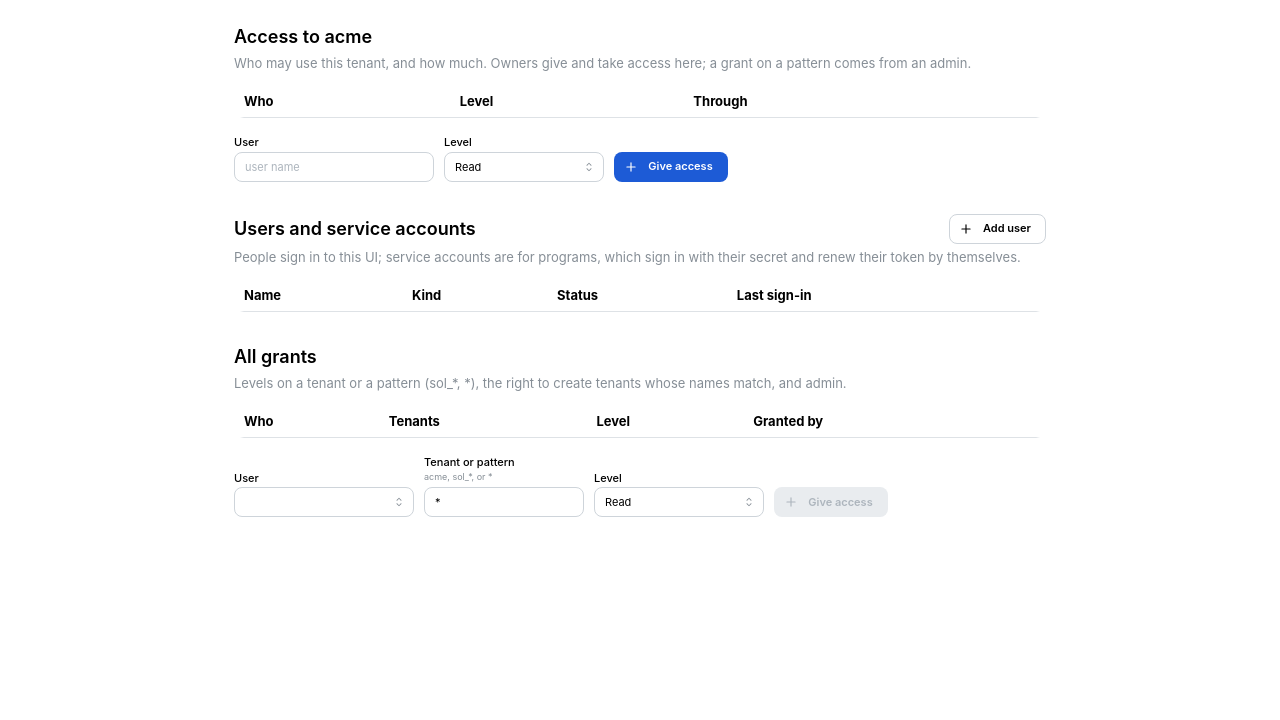
Access › lets an admin create a service account and shows its secret once
Click the button "Add user" at (997, 229), box [949,214,1046,244]
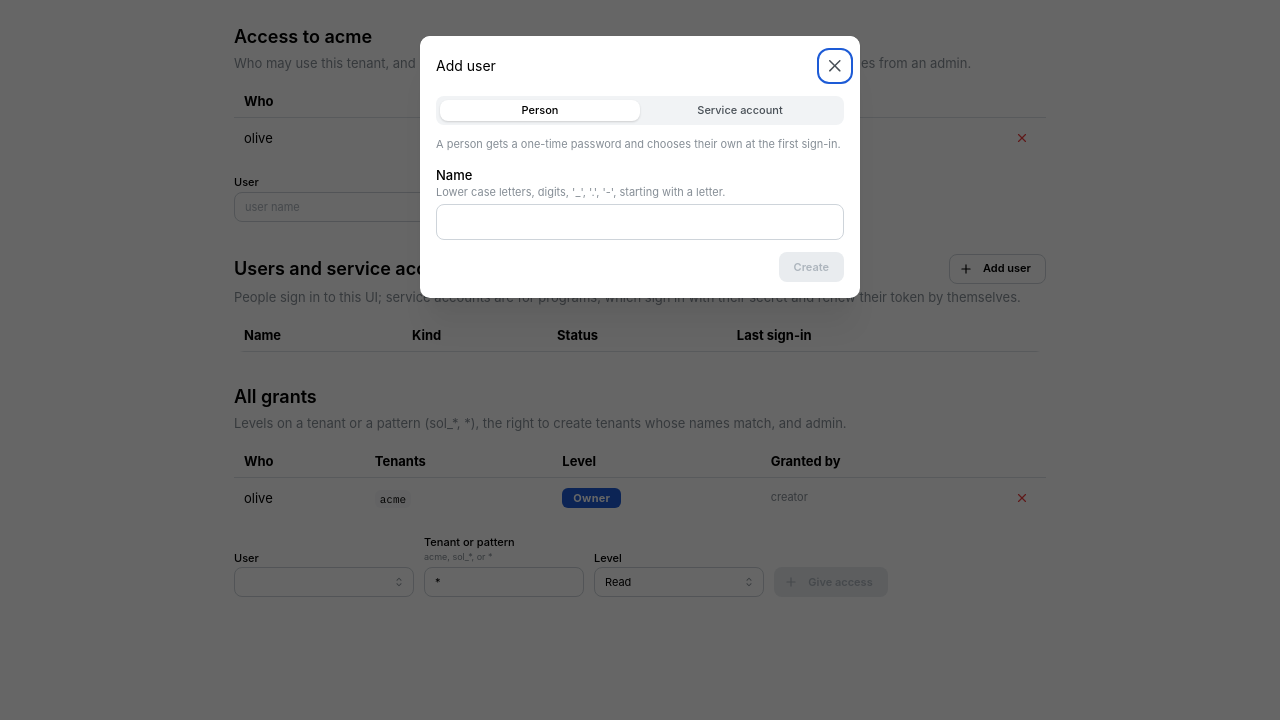
Click the text "Service account" at (740, 110), box [697,103,783,117]
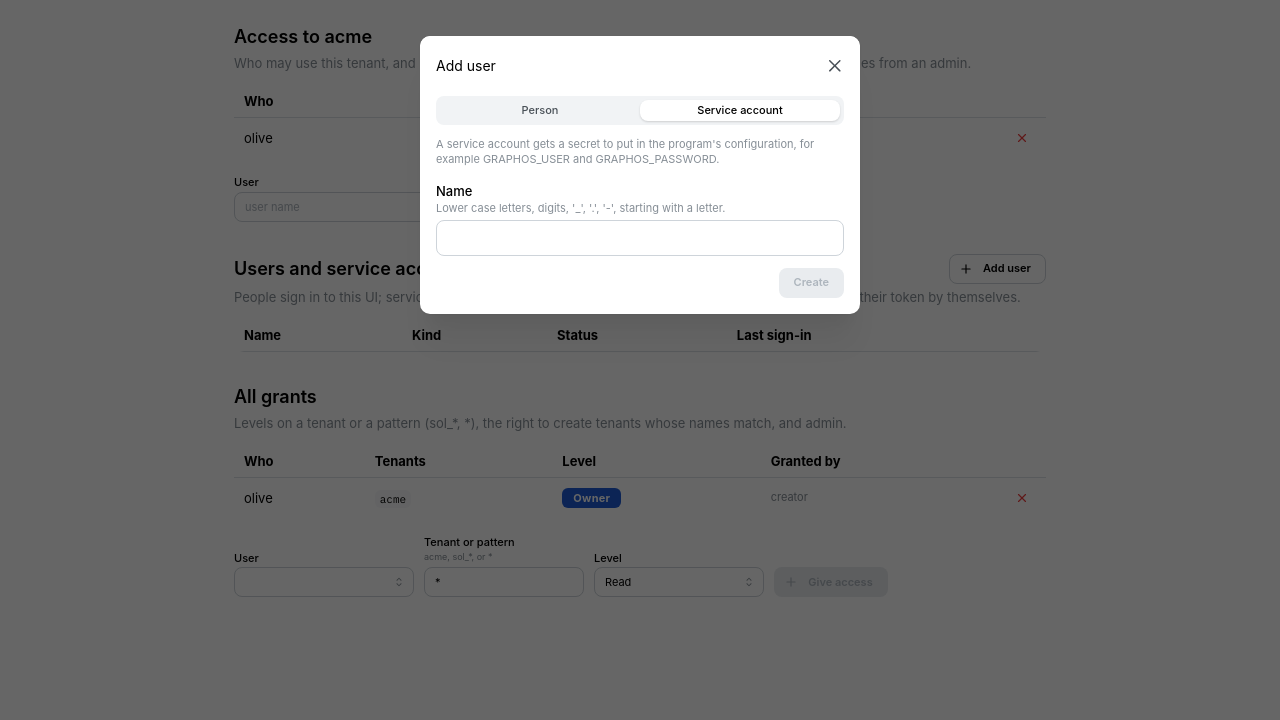
Type "Loader" into the field labelled "Name" at (640, 238), box [436,220,844,256]
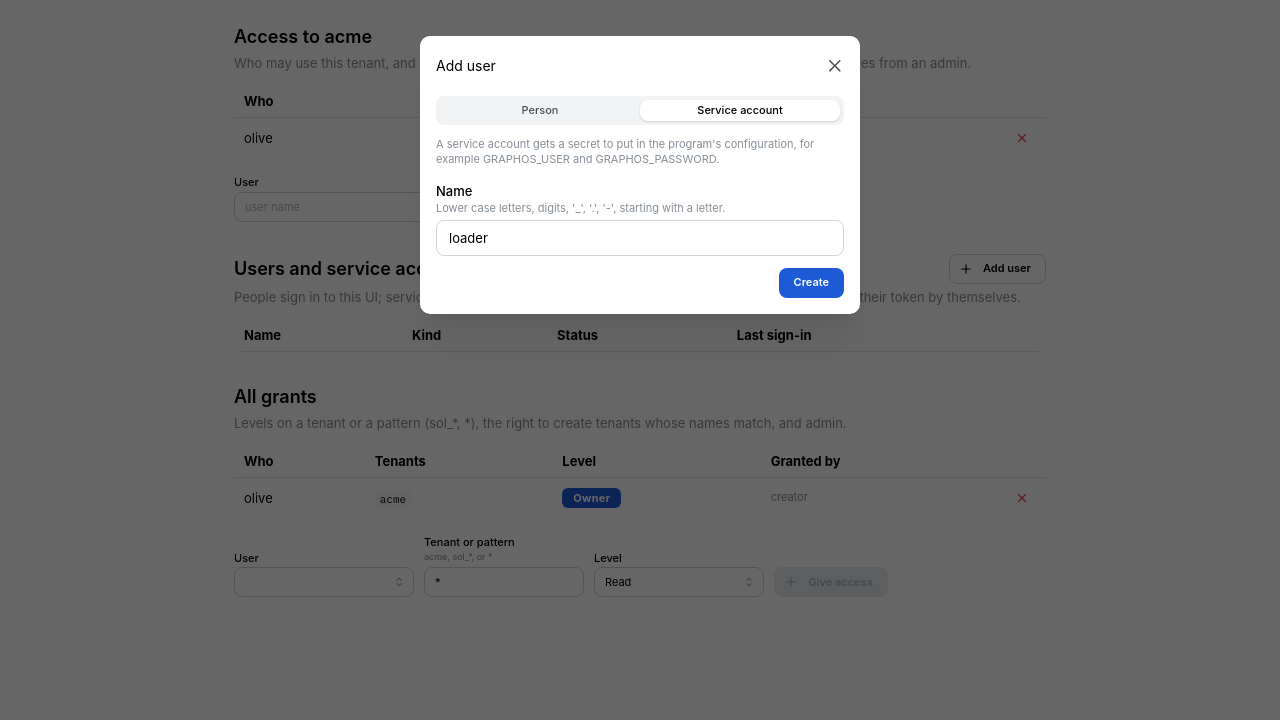
Click the button "Create" at (811, 283), box [778,268,844,298]
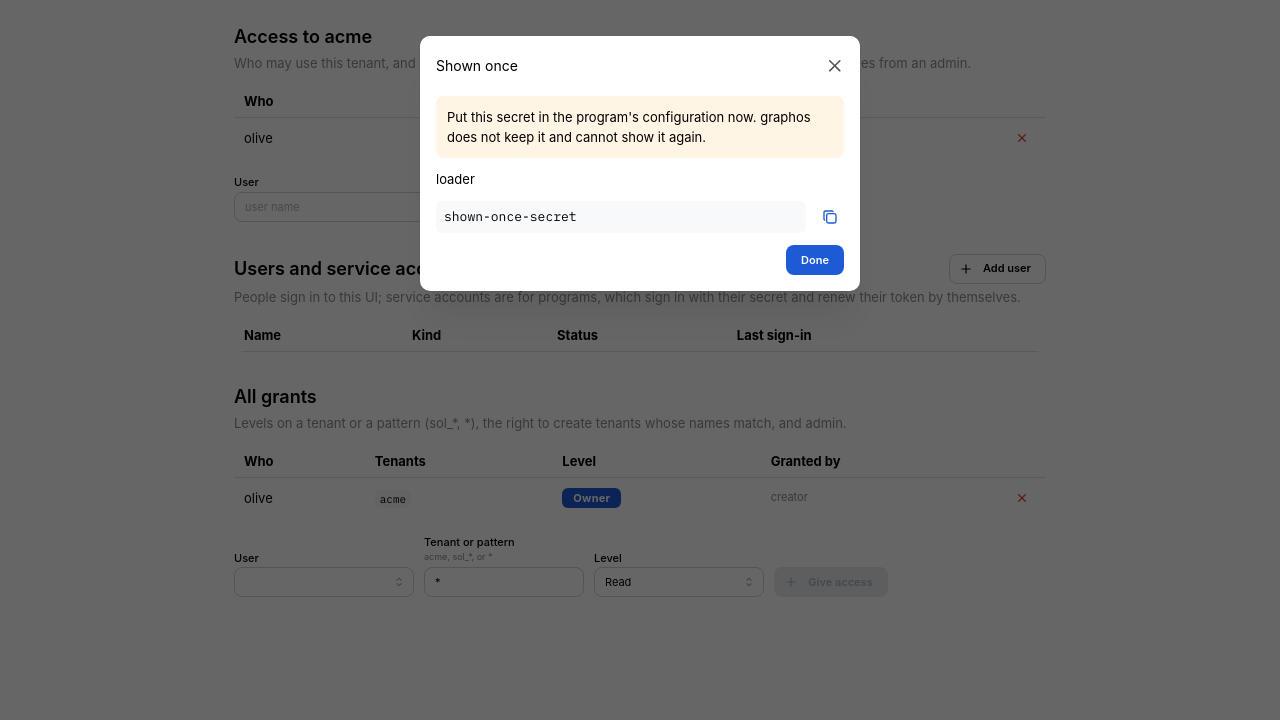
Expected: the text "shown-once-secret" is shown, [436,201,806,233]
Expected: the text "cannot show it again" is shown, [447,109,811,145]
